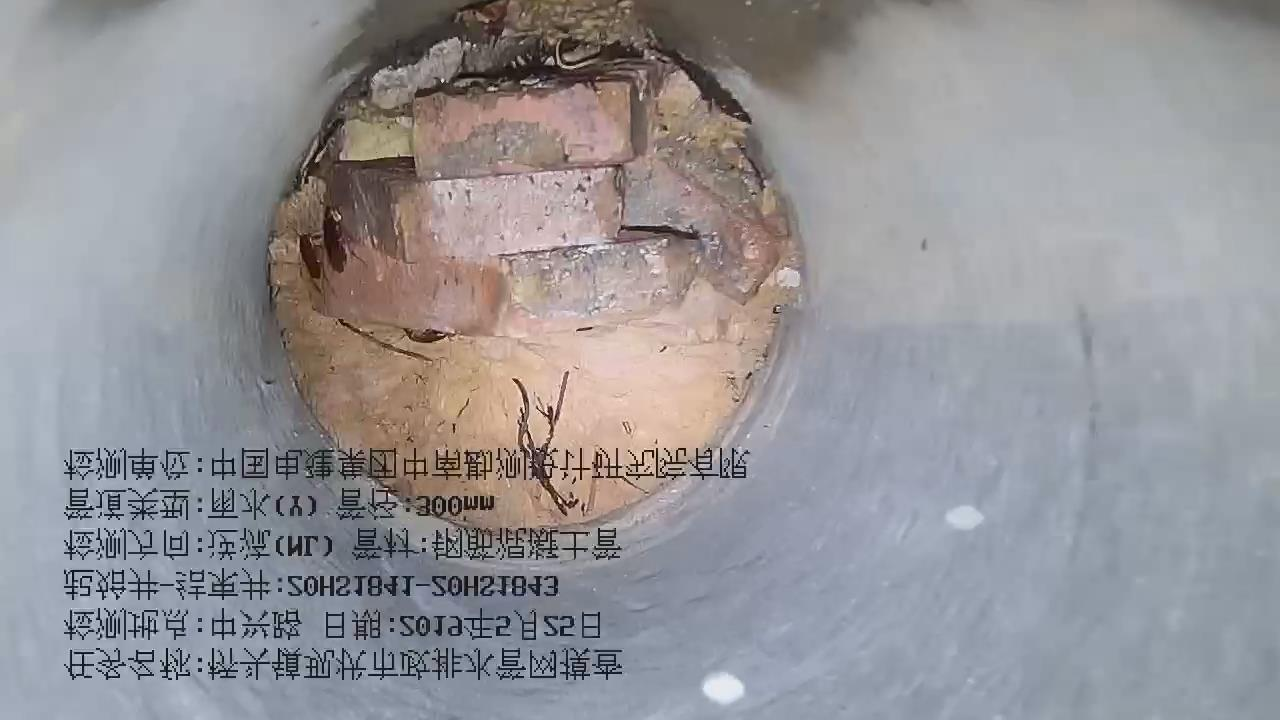CQBG: (268, 37, 801, 542)
